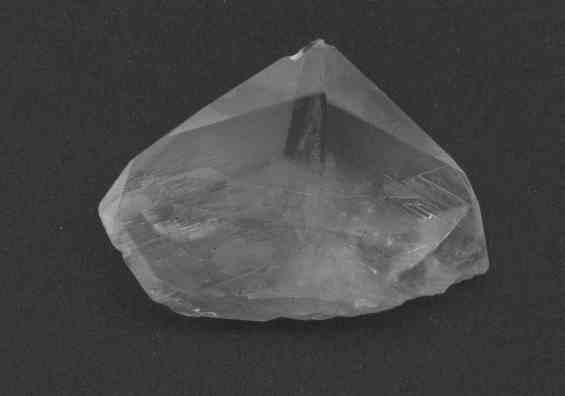calcite: (98, 39, 490, 322)
